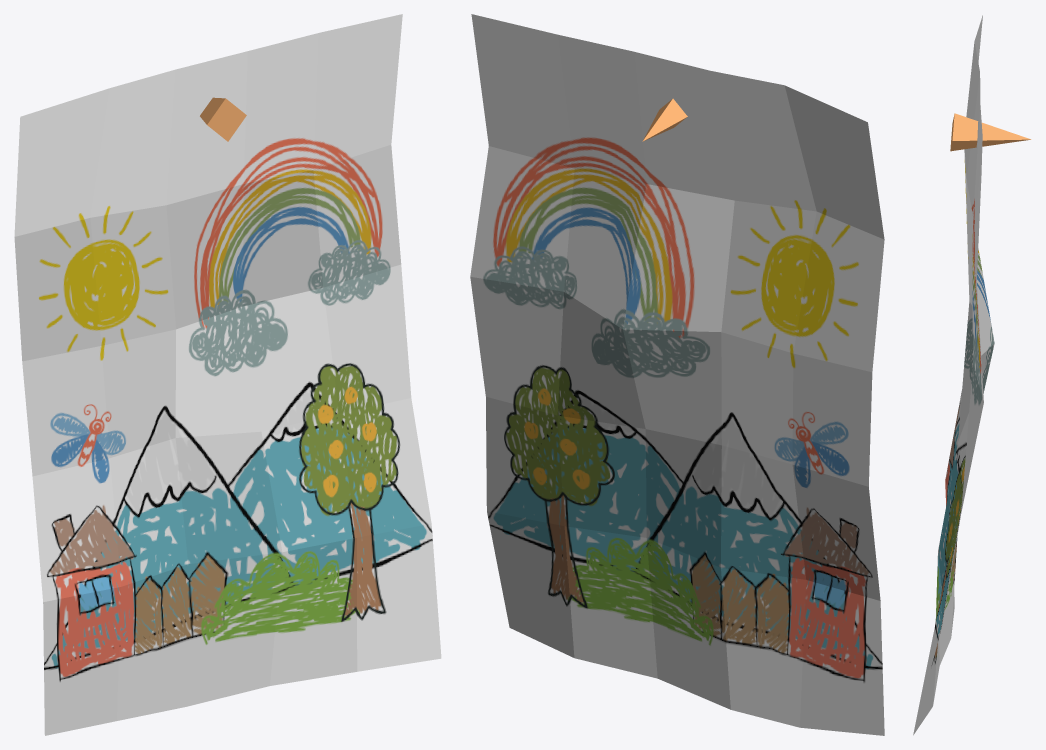
File: cizim.fbx
The picture shows the model from 3 angles, left to right: view 1: azimuth 30°, elevation 25°; view 2: azimuth 150°, elevation 25°; view 3: azimuth 270°, elevation 25°; orthographic projection. The views are drawn at different scales.
Visible parts, largest first — view 1: Cube.040; view 2: Cube.040; view 3: Cube.040.
Part boxes in pixels (x1=…): Cube.040: x1=14, y1=14, x2=441, y2=735; Cube.040: x1=470, y1=14, x2=884, y2=735; Cube.040: x1=913, y1=15, x2=1031, y2=735.
Size of the model in its own units: 135 by 38.37 by 202.
